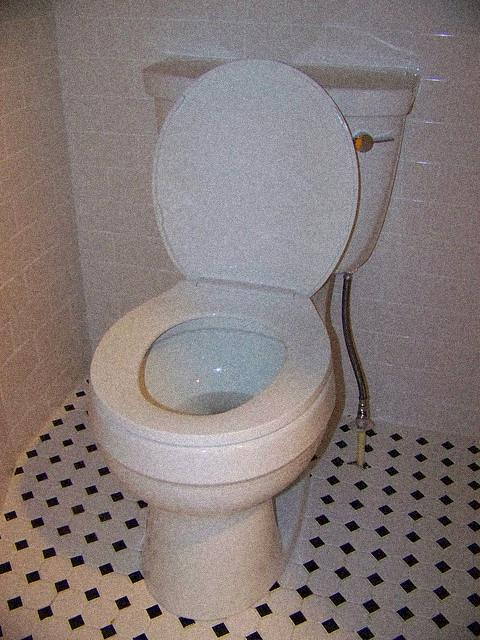Sanitario: (86, 51, 421, 625)
